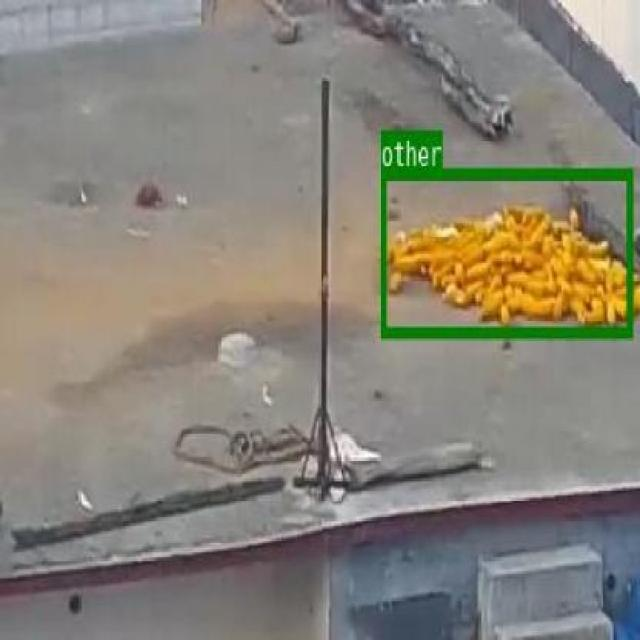Smoke: (378, 168, 632, 337)
